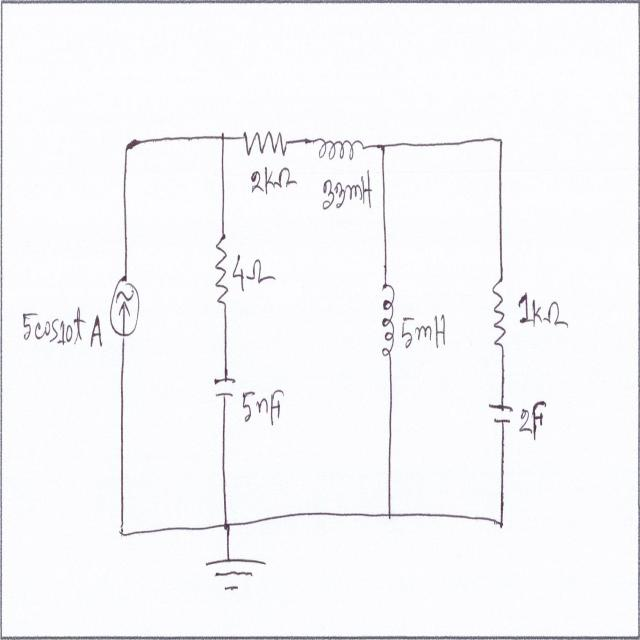capacitor: (487, 393, 518, 436), (209, 372, 238, 402)
current_source: (106, 274, 143, 338)
ground: (203, 552, 267, 597)
inductor: (316, 132, 366, 166), (381, 279, 398, 361)
resistor: (242, 114, 288, 164), (212, 228, 230, 311), (490, 276, 508, 357)
